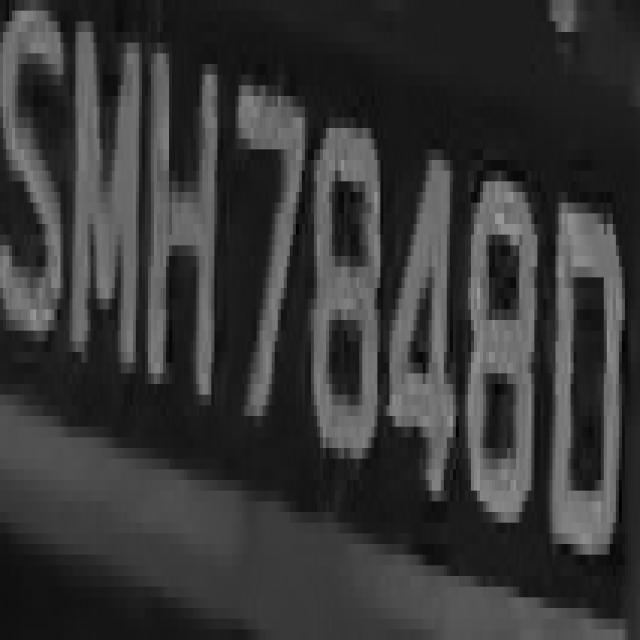4: (392, 96, 465, 501)
7: (229, 64, 302, 437)
8: (308, 75, 383, 469), (465, 149, 534, 555)
D: (549, 170, 631, 554)
H: (142, 11, 220, 427)
M: (60, 11, 148, 416)
S: (6, 0, 66, 395)
